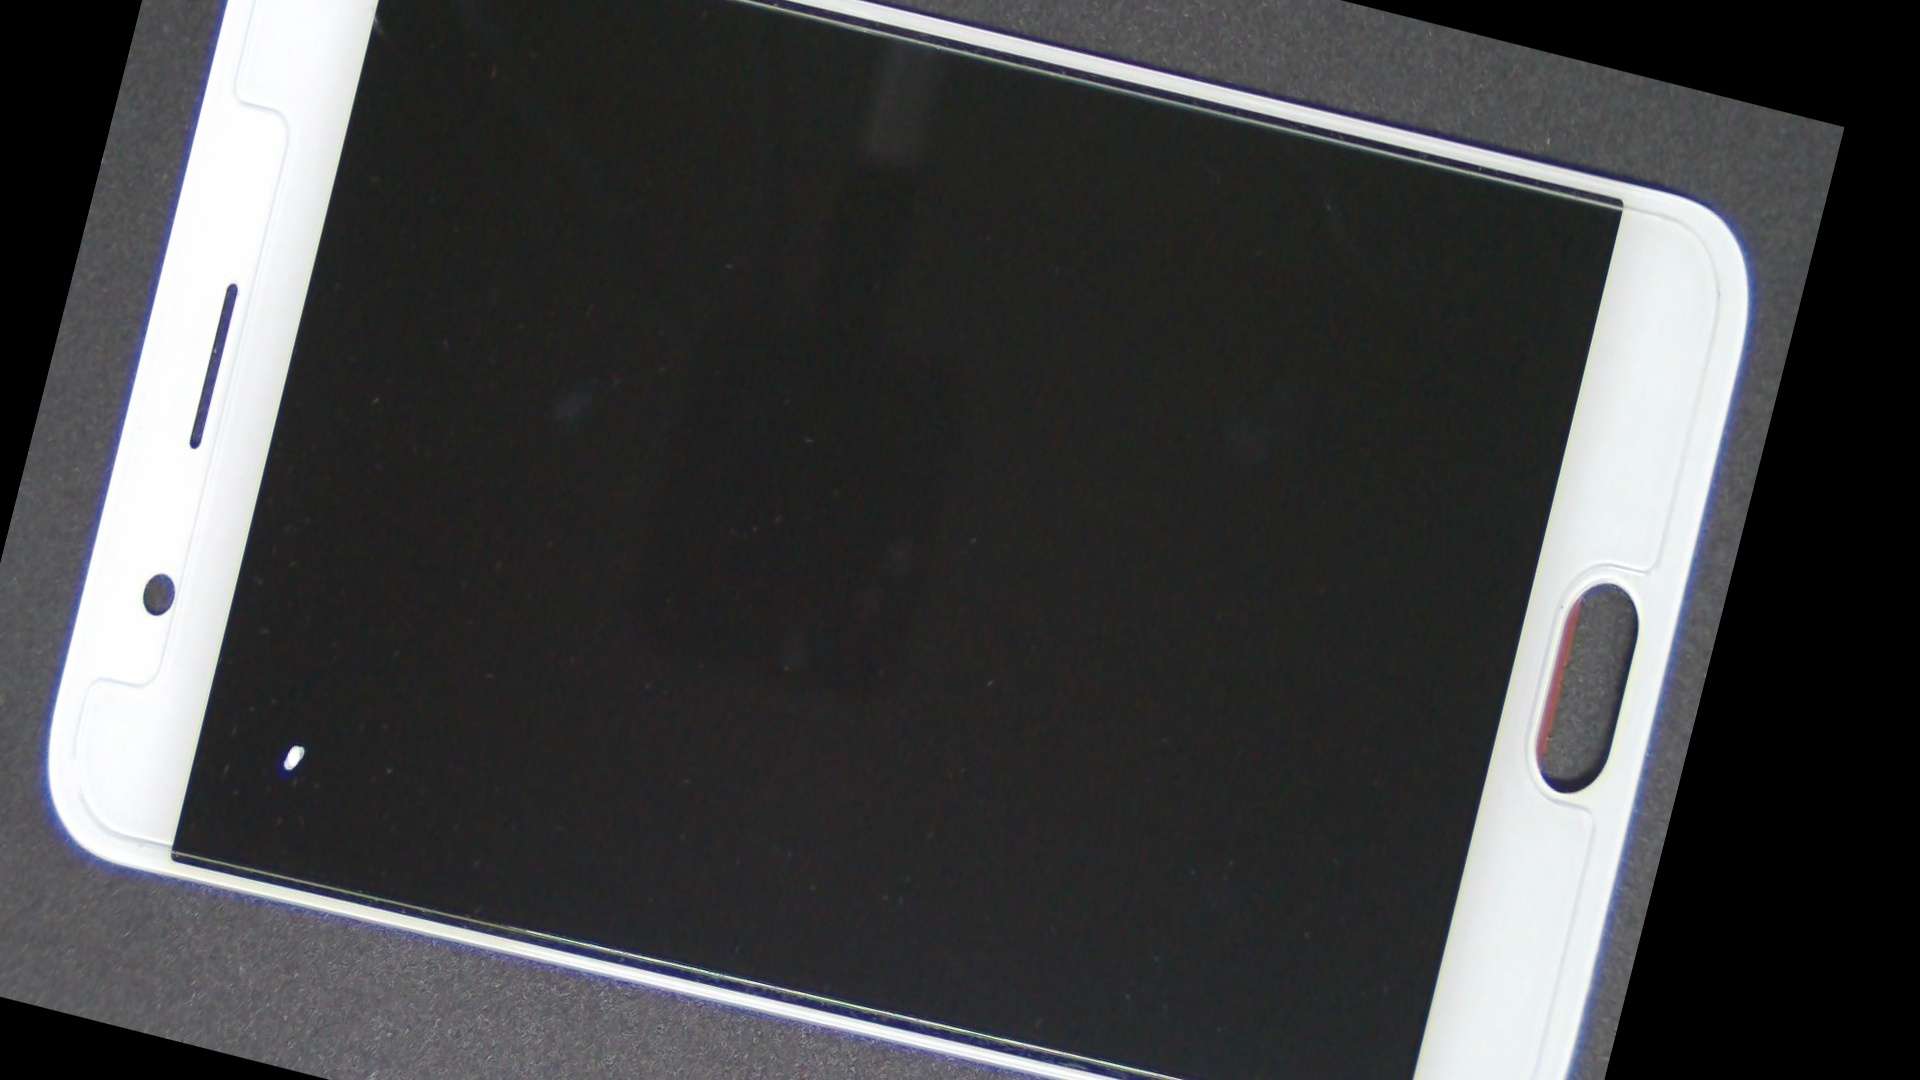oil: (58, 228, 572, 1080)
